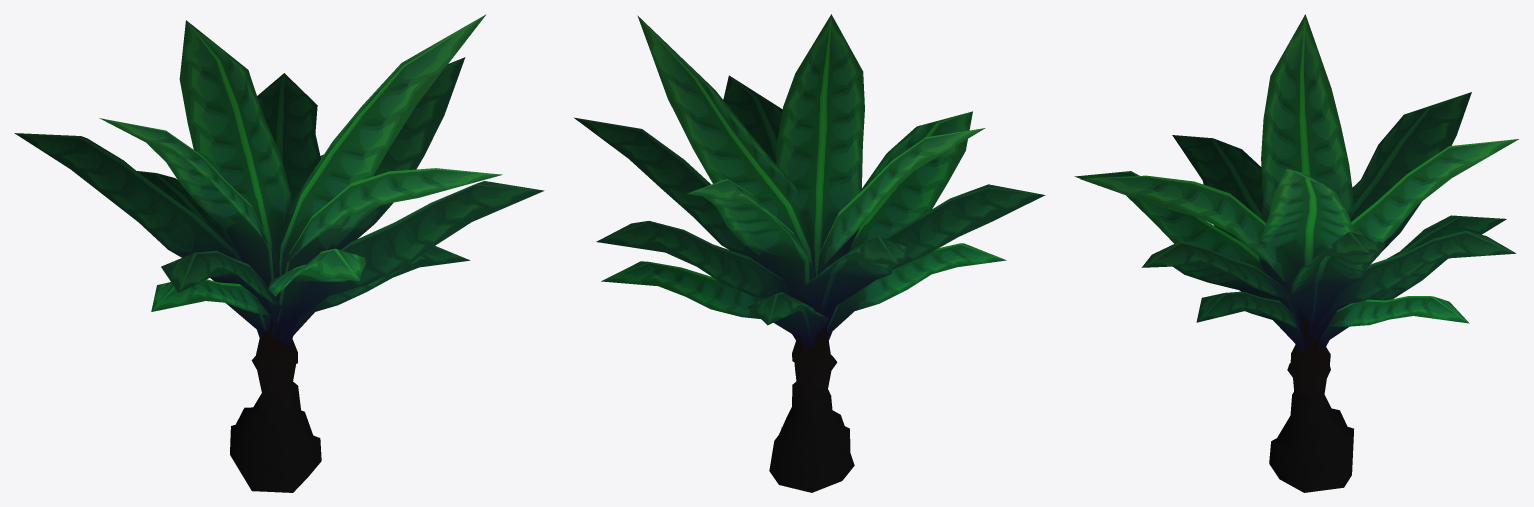
The model's file is SM_Env_Bush_Palm_02.gltf.
3 views of the same model, side by side, from view 1: azimuth 30°, elevation 25°; view 2: azimuth 150°, elevation 25°; view 3: azimuth 270°, elevation 25° (orthographic). The views are drawn at different scales.
Parts seen in each view (by area): view 1: SM_Env_Bush_Palm_02_LOD0; view 2: SM_Env_Bush_Palm_02_LOD0; view 3: SM_Env_Bush_Palm_02_LOD0.
Part boxes in pixels (left/top/right/bottom): SM_Env_Bush_Palm_02_LOD0: left=14, top=14, right=544, bottom=492; SM_Env_Bush_Palm_02_LOD0: left=574, top=14, right=1045, bottom=492; SM_Env_Bush_Palm_02_LOD0: left=1074, top=14, right=1518, bottom=492.
Size of what is drawn, in the model's own units: 3.52 by 3.66 by 3.62.
Materials: 1 (1 with a texture image).
